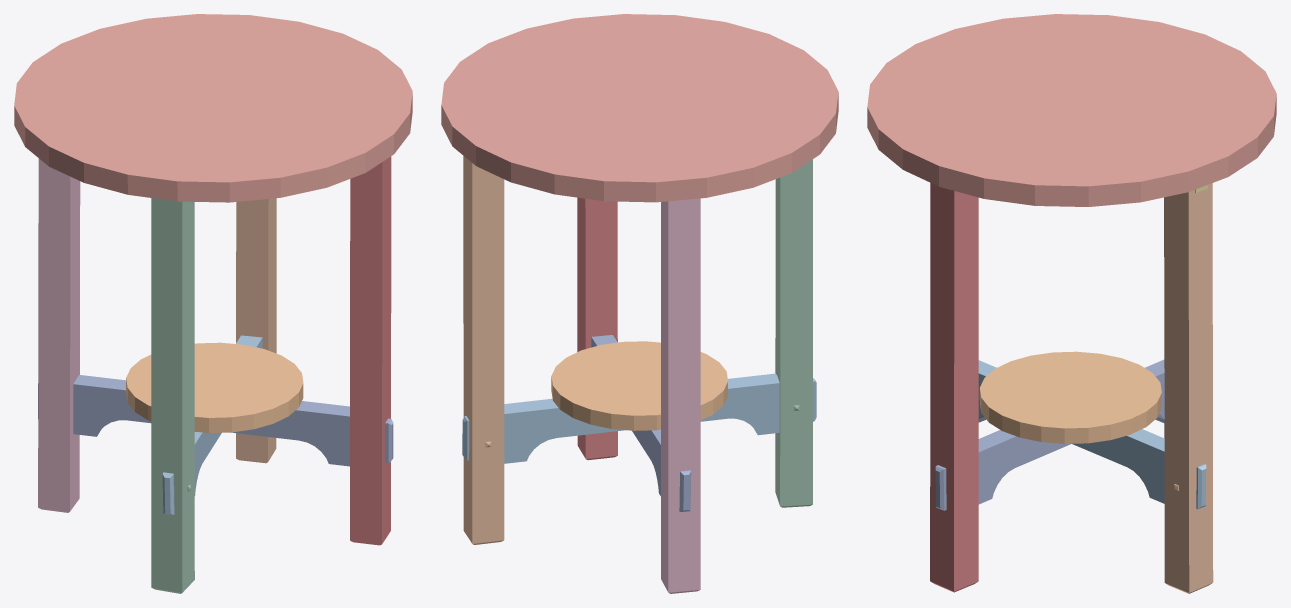
Rendered from 24373_assembly.glb.
The picture shows the model from 3 angles, left to right: view 1: azimuth 30°, elevation 25°; view 2: azimuth 150°, elevation 25°; view 3: azimuth 270°, elevation 25°; orthographic projection. The views are drawn at different scales.
Visible parts, largest first — view 1: part_01, part_06, part_00, part_04, part_02, part_09, part_03, part_08; view 2: part_01, part_03, part_04, part_06, part_02, part_08, part_00, part_09; view 3: part_01, part_03, part_00, part_02, part_09, part_08.
Boxes of the visible parts, x1=… form: part_01: x1=14, y1=14, x2=412, y2=202; part_06: x1=151, y1=198, x2=194, y2=593; part_00: x1=350, y1=156, x2=391, y2=545; part_04: x1=38, y1=158, x2=80, y2=512; part_02: x1=126, y1=342, x2=303, y2=432; part_09: x1=38, y1=375, x2=393, y2=466; part_03: x1=236, y1=198, x2=276, y2=463; part_08: x1=162, y1=335, x2=262, y2=514; part_01: x1=441, y1=14, x2=838, y2=202; part_03: x1=463, y1=156, x2=504, y2=544; part_04: x1=661, y1=198, x2=700, y2=593; part_06: x1=775, y1=159, x2=812, y2=507; part_02: x1=551, y1=341, x2=727, y2=430; part_08: x1=462, y1=373, x2=816, y2=463; part_00: x1=577, y1=197, x2=617, y2=460; part_09: x1=591, y1=335, x2=691, y2=511; part_01: x1=867, y1=14, x2=1276, y2=206; part_03: x1=1164, y1=183, x2=1213, y2=593; part_00: x1=930, y1=183, x2=978, y2=592; part_02: x1=979, y1=351, x2=1161, y2=443; part_09: x1=935, y1=359, x2=1164, y2=510; part_08: x1=978, y1=360, x2=1206, y2=509.
Size of the model in its own units: 0.897 by 1.06 by 0.8969.
